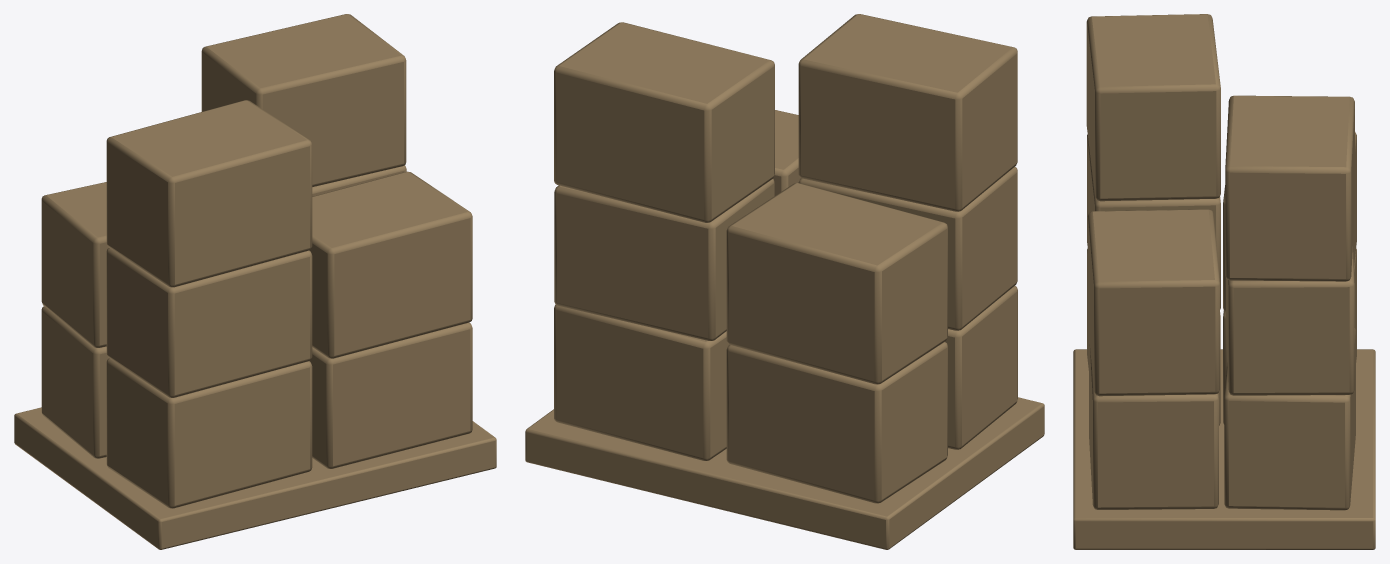
Rendered from Prop_WoodCrates.fbx.
The picture shows the model from 3 angles, left to right: view 1: azimuth 30°, elevation 25°; view 2: azimuth 150°, elevation 25°; view 3: azimuth 270°, elevation 25°; orthographic projection. The views are drawn at different scales.
Visible parts, largest first — view 1: Prop_WoodCrates_Mesh; view 2: Prop_WoodCrates_Mesh; view 3: Prop_WoodCrates_Mesh.
Boxes of the visible parts, bbox=[...] form: Prop_WoodCrates_Mesh: bbox=[14, 14, 496, 549]; Prop_WoodCrates_Mesh: bbox=[525, 14, 1044, 549]; Prop_WoodCrates_Mesh: bbox=[1073, 14, 1375, 549].
Size of the model in its own units: 1.6 by 1.64 by 1.2.
